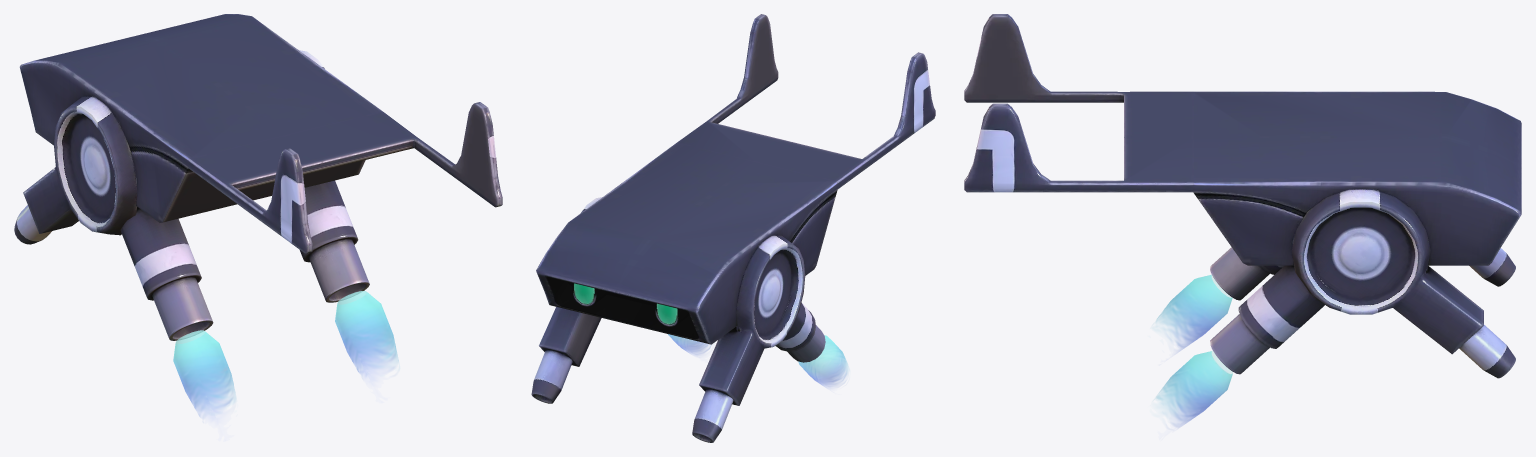
The model's file is drone.glb.
3 views of the same model, side by side, from view 1: azimuth 30°, elevation 25°; view 2: azimuth 150°, elevation 25°; view 3: azimuth 270°, elevation 25° (orthographic). The views are drawn at different scales.
Parts seen in each view (by area): view 1: Box001_Material #4_0, Object002_Material #5_0; view 2: Box001_Material #4_0, Object002_Material #5_0; view 3: Box001_Material #4_0, Object002_Material #5_0.
Part boxes in pixels (bbox=[...]): Box001_Material #4_0: bbox=[14, 14, 502, 340]; Object002_Material #5_0: bbox=[173, 291, 398, 418]; Box001_Material #4_0: bbox=[531, 14, 935, 442]; Object002_Material #5_0: bbox=[668, 334, 848, 387]; Box001_Material #4_0: bbox=[964, 14, 1521, 378]; Object002_Material #5_0: bbox=[1155, 274, 1232, 427].
Size of the model in its own units: 1.48 by 2.21 by 3.27.
2 materials, 2 textured.
